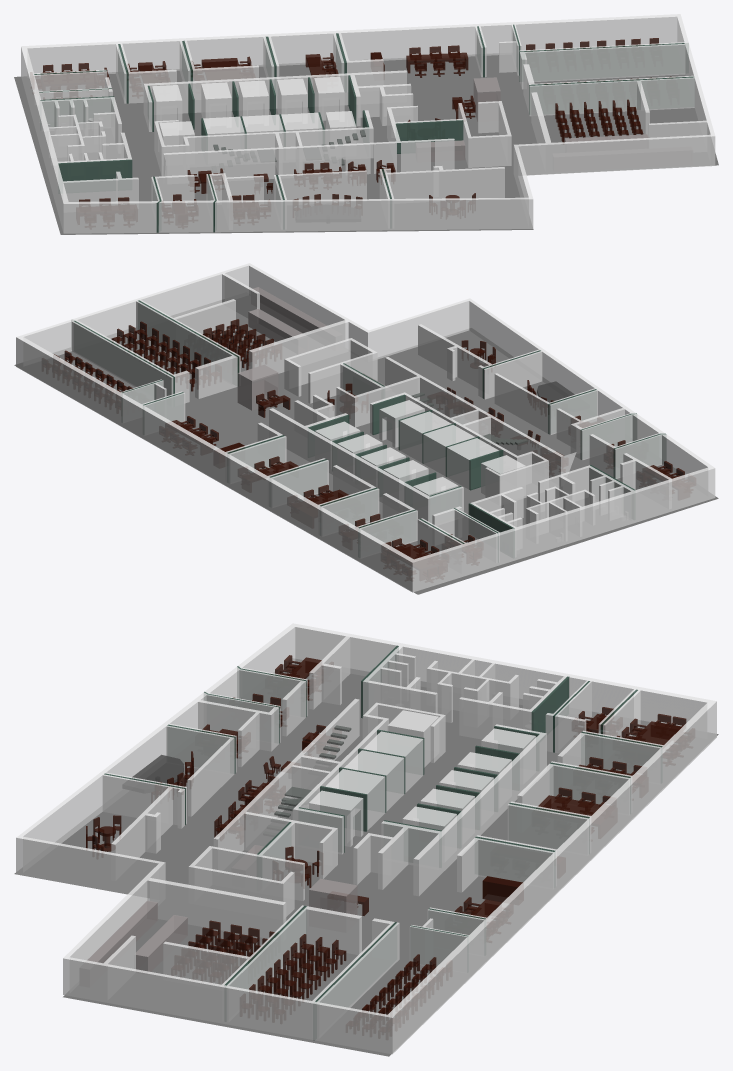
The model's file is 482Fredd.glb.
The picture shows the model from 3 angles, top to bottom: view 1: azimuth 30°, elevation 25°; view 2: azimuth 150°, elevation 25°; view 3: azimuth 270°, elevation 25°; orthographic projection. The views are drawn at different scales.
Visible parts, largest first — view 1: piso, suelorender, paredes, separacion.001, separacion.002, Cube.017, separacion.029, mesa.016, separacion, Silla.012, Silla.005, Cube.042 (+27 smaller); view 2: piso, paredes, suelorender, separacion.001, mesa.015, separacion.002, mesa.016, Silla.012, Cube.017, mesa.001, Cube.047, Cube.000 (+36 smaller); view 3: piso, suelorender, paredes, mesa.015, mesa.016, mesa.001, separacion.001, separacion.006, separacion.005, Cube.000, Cube.017, separacion.002 (+41 smaller).
Part boxes in pixels (x1=…): piso: x1=21, y1=14, x2=715, y2=233; suelorender: x1=14, y1=54, x2=718, y2=234; paredes: x1=34, y1=24, x2=707, y2=229; separacion.001: x1=519, y1=43, x2=688, y2=81; separacion.002: x1=529, y1=76, x2=694, y2=114; Cube.017: x1=553, y1=147, x2=692, y2=171; separacion.029: x1=58, y1=159, x2=132, y2=193; mesa.016: x1=555, y1=99, x2=643, y2=144; separacion: x1=395, y1=120, x2=463, y2=153; Silla.012: x1=30, y1=63, x2=109, y2=93; Silla.005: x1=406, y1=45, x2=468, y2=77; Cube.042: x1=238, y1=80, x2=268, y2=126; piso: x1=16, y1=263, x2=715, y2=592; paredes: x1=72, y1=273, x2=671, y2=572; suelorender: x1=14, y1=296, x2=718, y2=594; separacion.001: x1=71, y1=320, x2=174, y2=395; mesa.015: x1=111, y1=321, x2=221, y2=391; separacion.002: x1=138, y1=300, x2=239, y2=385; mesa.016: x1=200, y1=319, x2=281, y2=371; Silla.012: x1=381, y1=538, x2=448, y2=582; Cube.017: x1=251, y1=287, x2=342, y2=345; mesa.001: x1=42, y1=350, x2=132, y2=413; Cube.047: x1=447, y1=438, x2=498, y2=489; Cube.000: x1=237, y1=364, x2=278, y2=410; piso: x1=16, y1=623, x2=716, y2=1054; suelorender: x1=14, y1=659, x2=718, y2=1056; paredes: x1=102, y1=636, x2=663, y2=1036; mesa.015: x1=240, y1=934, x2=346, y2=1023; mesa.016: x1=171, y1=920, x2=278, y2=983; mesa.001: x1=346, y1=954, x2=451, y2=1039; separacion.001: x1=313, y1=922, x2=396, y2=1040; separacion.006: x1=509, y1=802, x2=589, y2=853; separacion.005: x1=475, y1=836, x2=555, y2=881; Cube.000: x1=309, y1=878, x2=357, y2=931; Cube.017: x1=80, y1=900, x2=157, y2=986; separacion.002: x1=224, y1=905, x2=306, y2=1021.
Size of what is drawn, in the model's own units: 77.13 by 3.4 by 57.65.
